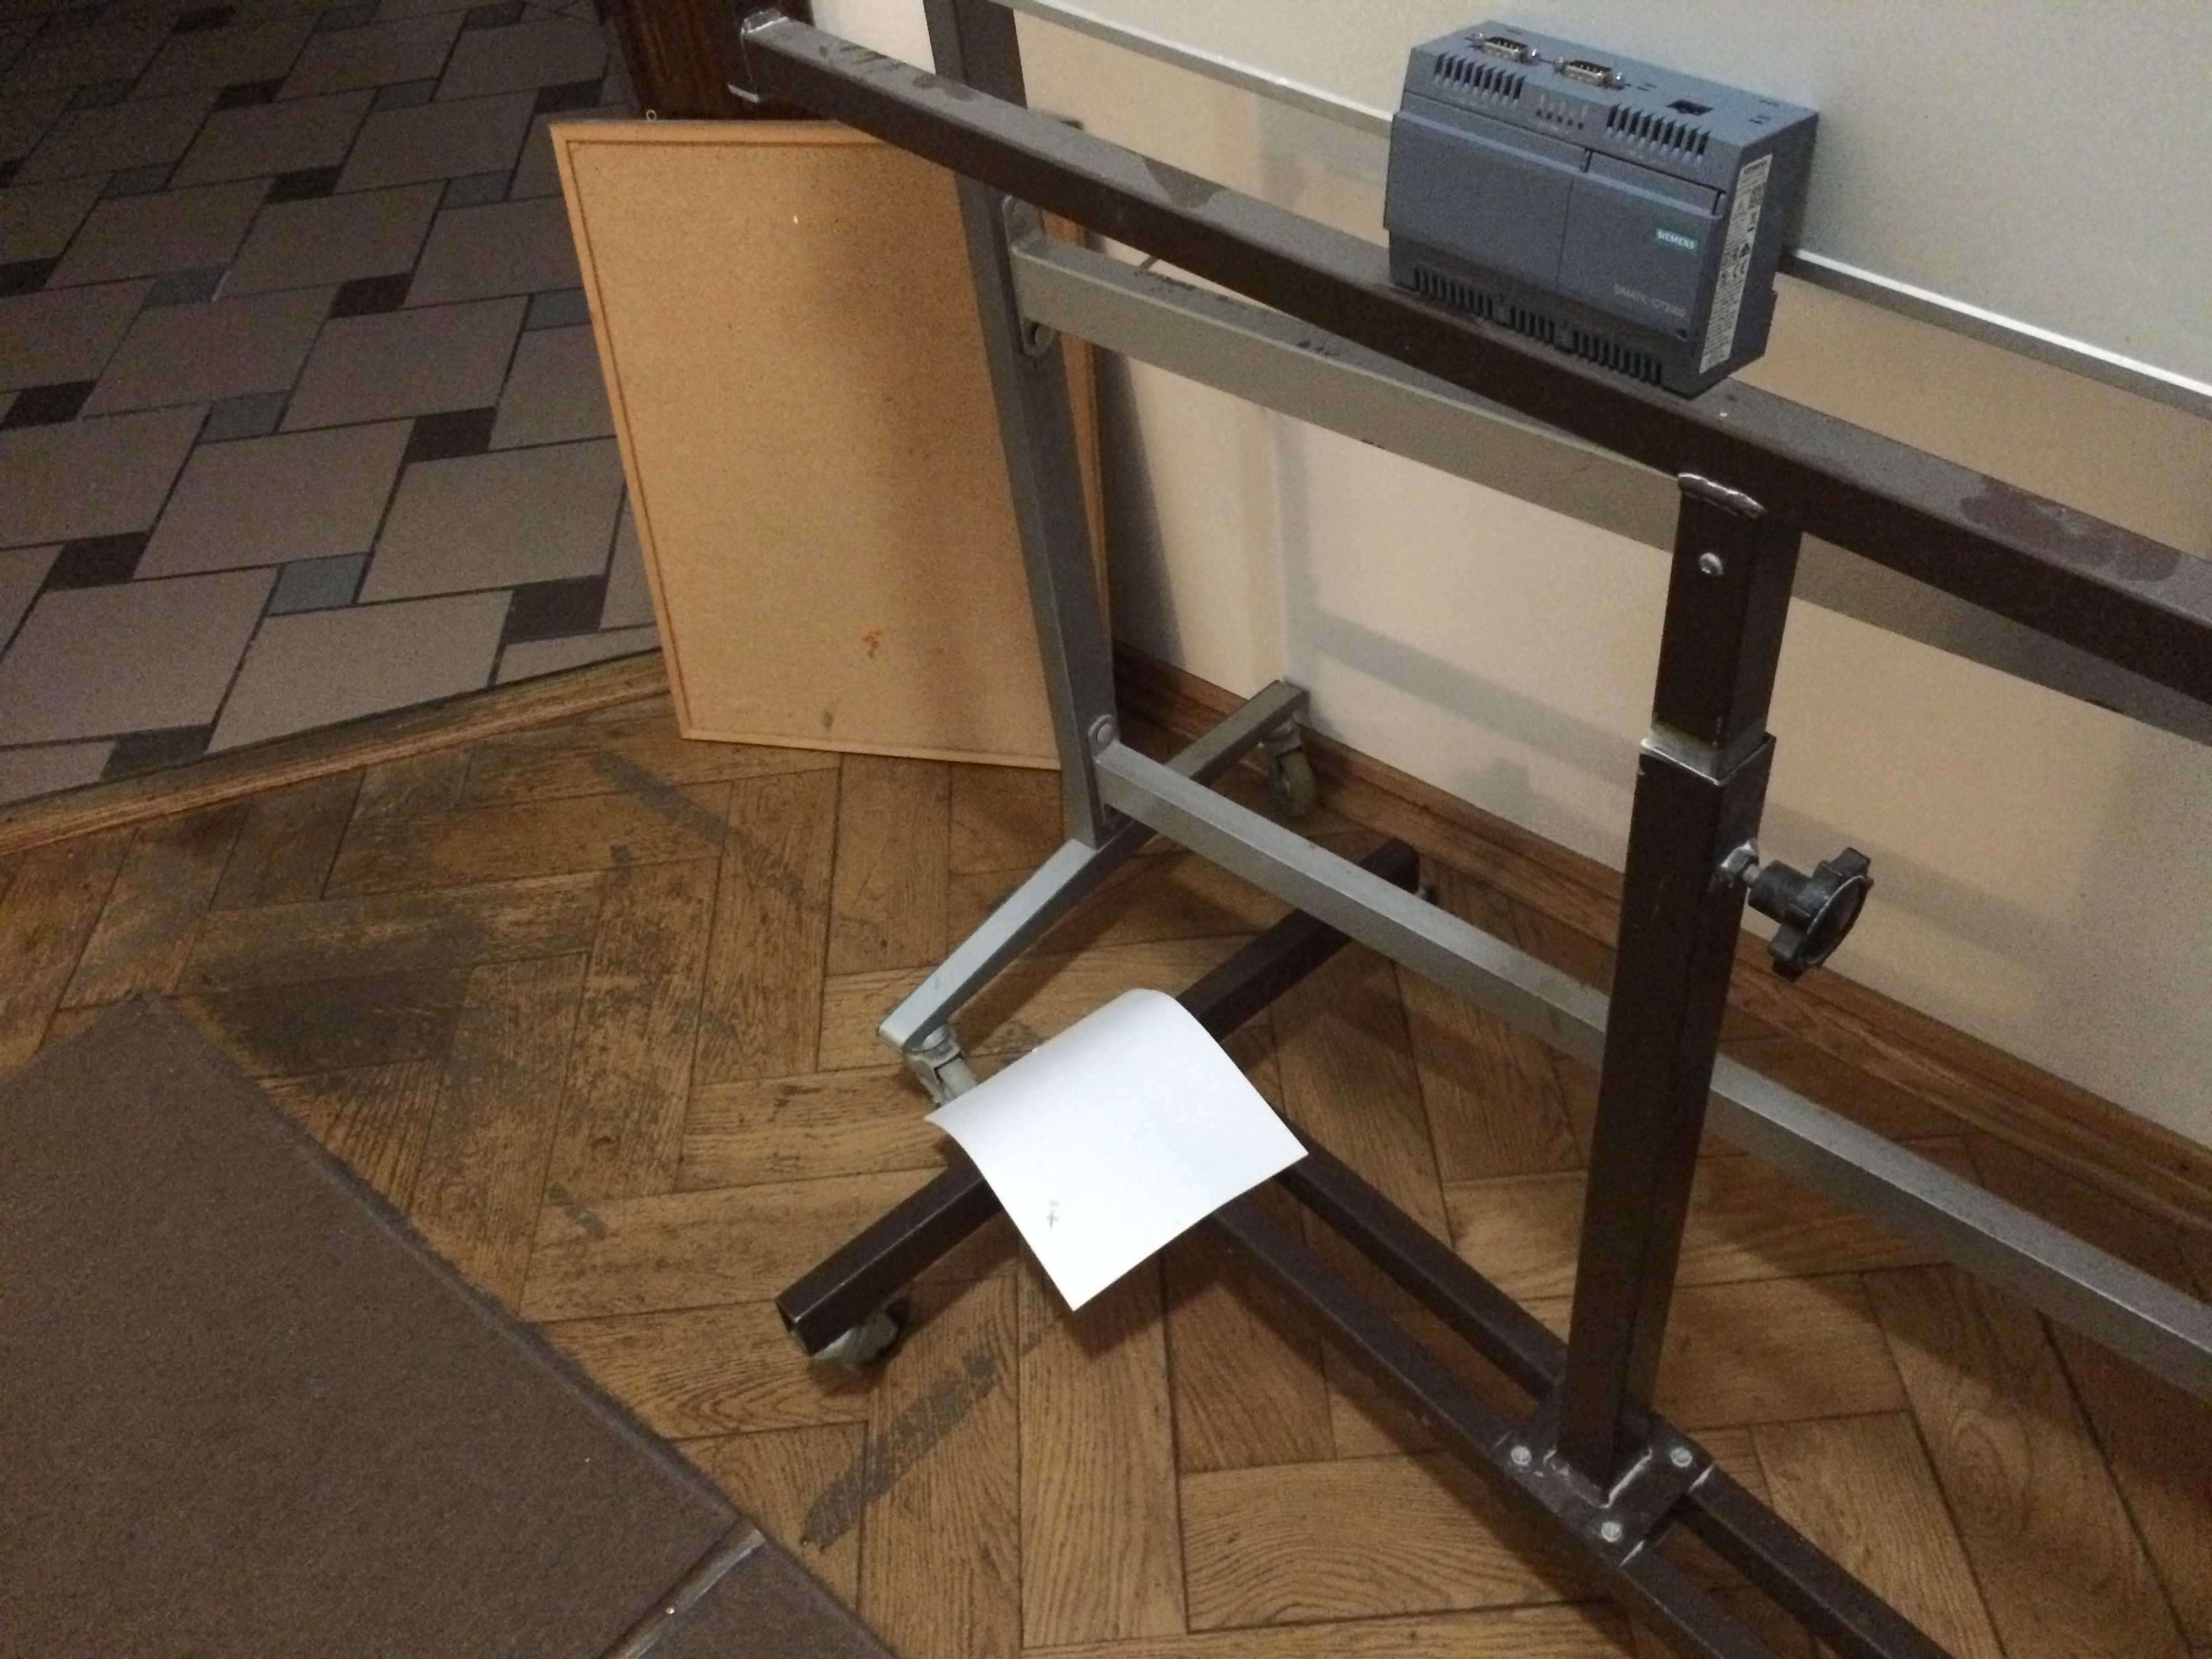iot2000: (1379, 17, 1822, 408)
